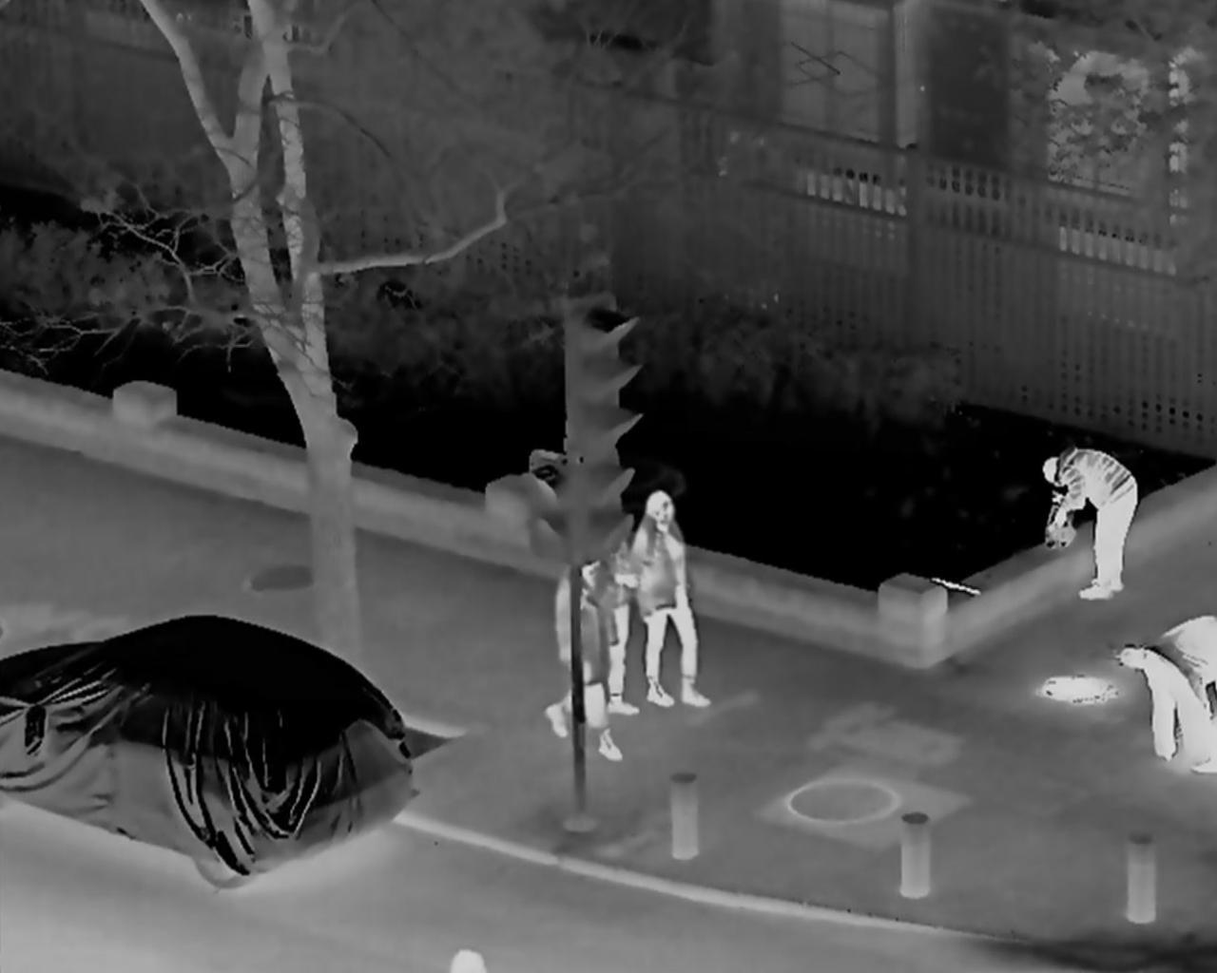person: (636, 495, 720, 724), (540, 556, 621, 763), (1040, 450, 1139, 602), (577, 482, 636, 717), (1136, 610, 1214, 773)
